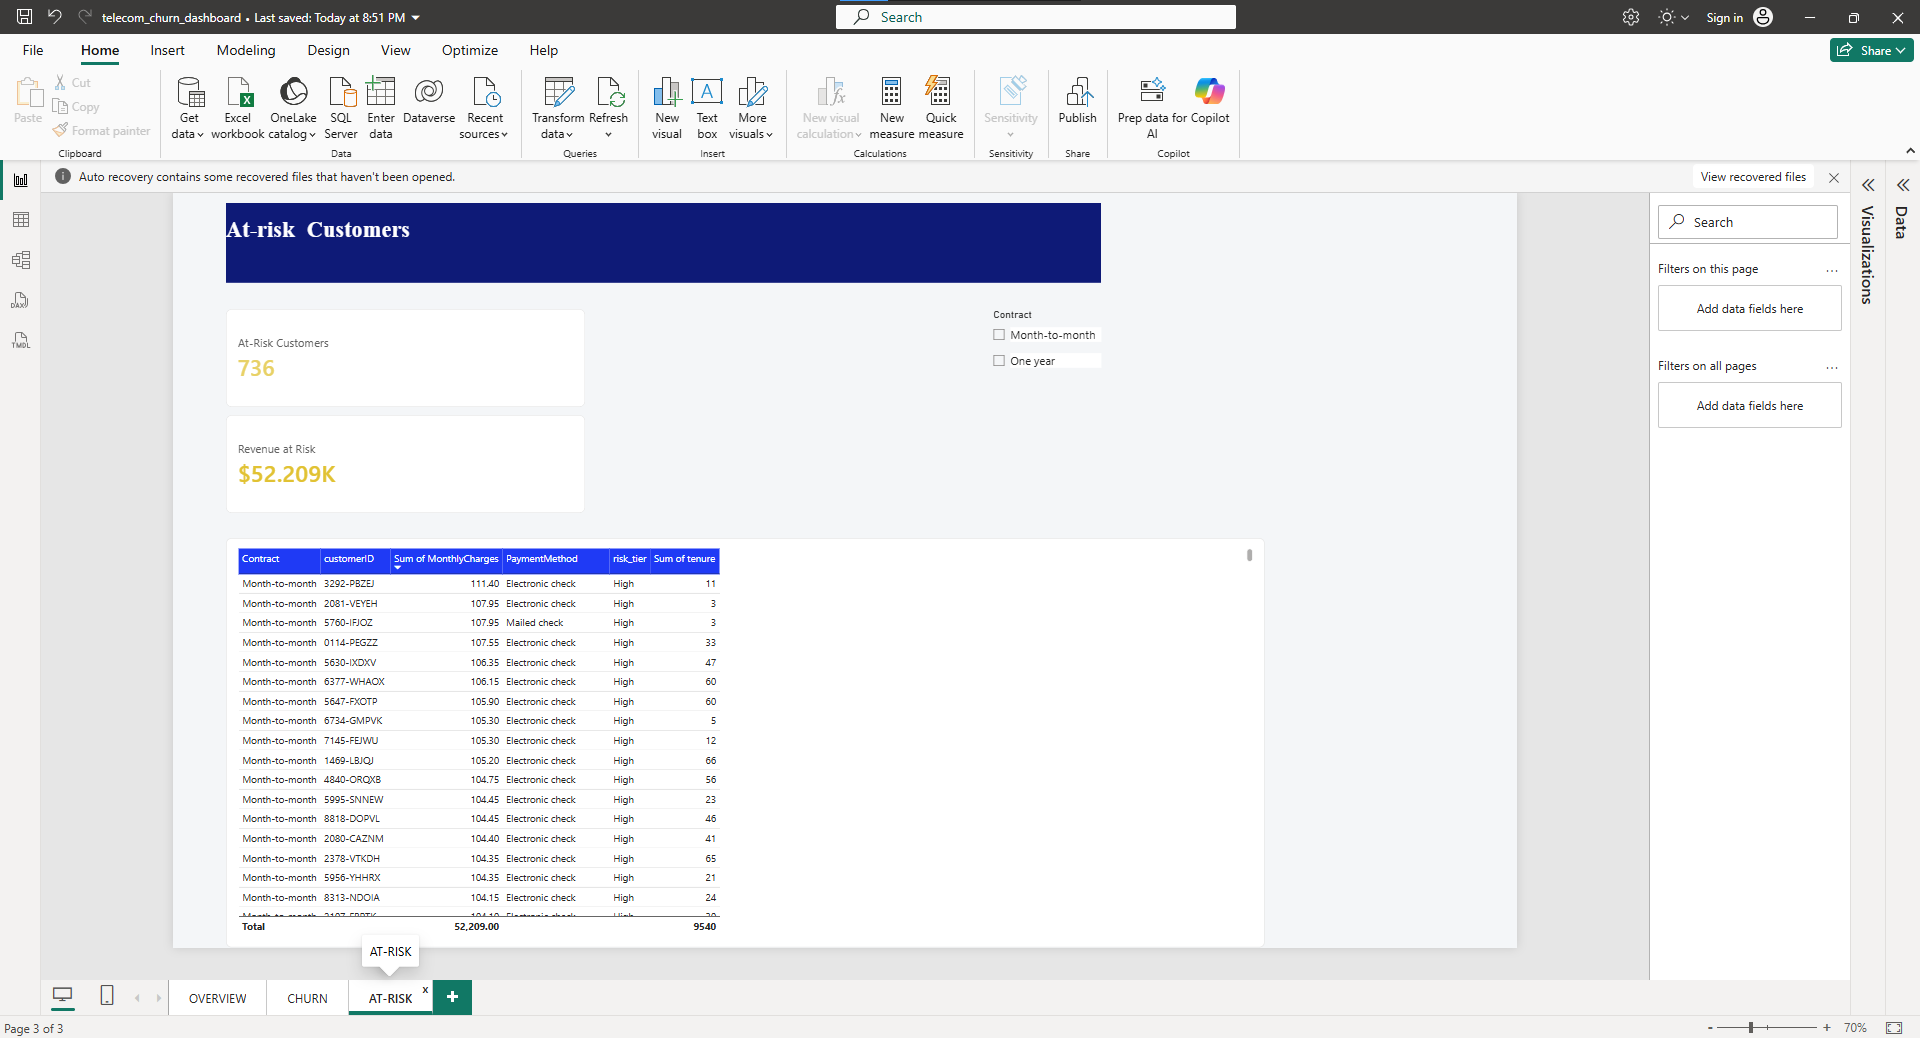

This screenshot's page, from the dashboard's own definition file:
{"tool":"powerbi","page":{"name":"AT-RISK","canvas":[1920,1080],"ordinal":2},"visuals":[{"type":"tableEx","fields":{"Values":["telco_at_risk.Contract","telco_at_risk.customerID","Sum(telco_at_risk.MonthlyCharges)","telco_at_risk.PaymentMethod","telco_at_risk.risk_tier","Sum(telco_at_risk.tenure)"]},"box":[75.9,494.6,1483.8,585],"z":0},{"type":"cardVisual","fields":{"Data":["telco_at_risk.At-Risk Customers"]},"box":[75.9,167.8,513.6,140.1],"z":1000},{"type":"cardVisual","fields":{"Data":["telco_dashboard.Revenue at Risk"]},"box":[75.9,318.1,513.6,140.1],"z":2000},{"type":"slicer","fields":{"Values":["telco_at_risk.Contract"]},"box":[1164.3,167.8,161.9,156.1],"z":3000},{"type":"textbox","box":[75.9,16,1250.3,113.8],"z":4000}]}

Visuals, with their boxes on the page's 1920x1080 design canvas (x1, y1, x2, y2). These are canvas units, not pixel positions in the 1920x1038 screenshot, which may show the page scaled, cropped or inside an application window:
tableEx - telco_at_risk.Contract x telco_at_risk.customerID: detection(76, 495, 1560, 1080)
cardVisual - telco_at_risk.At-Risk Customers: detection(76, 168, 590, 308)
cardVisual - telco_dashboard.Revenue at Risk: detection(76, 318, 590, 458)
slicer - telco_at_risk.Contract: detection(1164, 168, 1326, 324)
textbox: detection(76, 16, 1326, 130)
